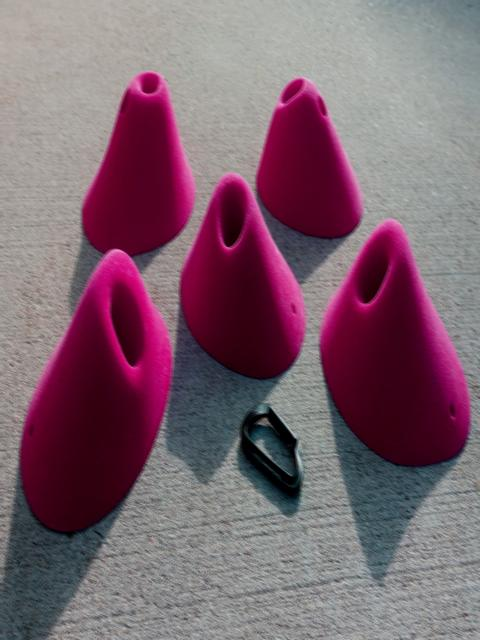pocket: (20, 250, 172, 530), (319, 219, 470, 465), (179, 173, 305, 377), (81, 72, 195, 254), (256, 77, 363, 237)
